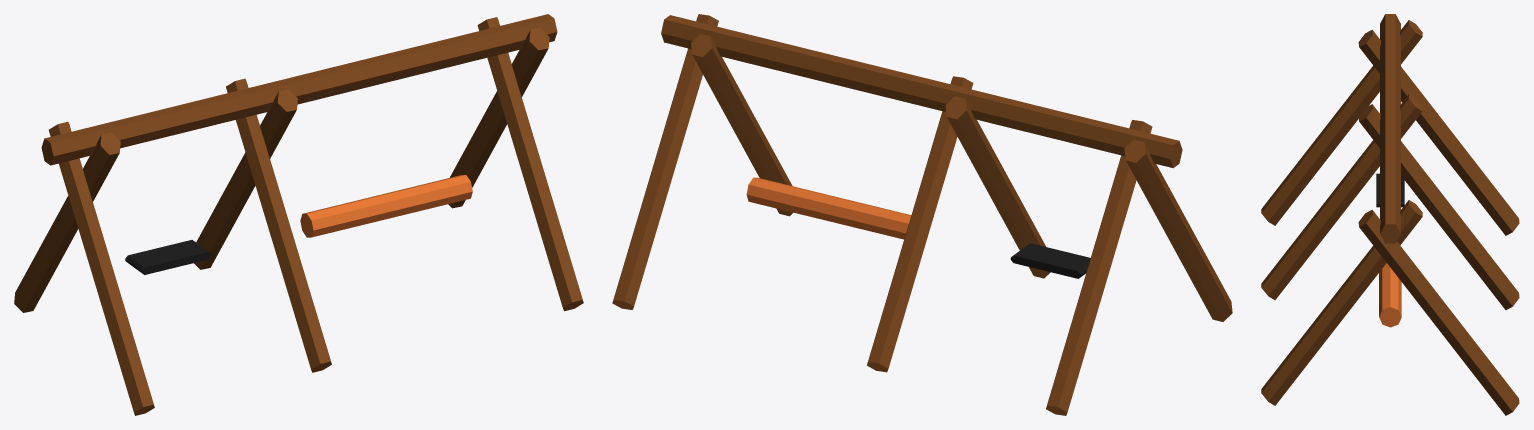
File: VisioSwing.fbx
3 views of the same model, side by side, from view 1: azimuth 30°, elevation 25°; view 2: azimuth 150°, elevation 25°; view 3: azimuth 270°, elevation 25° (orthographic). The views are drawn at different scales.
Parts seen in each view (by area): view 1: Cylinder, Cylinder.001, SwingSeat; view 2: Cylinder, Cylinder.001, SwingSeat; view 3: Cylinder, Cylinder.001, SwingSeat.
Part boxes in pixels (box(x1,y1,x2,y2)): Cylinder: box(14, 14, 583, 415); Cylinder.001: box(300, 175, 472, 237); SwingSeat: box(125, 240, 211, 274); Cylinder: box(612, 14, 1232, 415); Cylinder.001: box(746, 177, 911, 239); SwingSeat: box(1010, 243, 1090, 278); Cylinder: box(1261, 14, 1519, 415); Cylinder.001: box(1379, 263, 1401, 327); SwingSeat: box(1376, 173, 1404, 207).
Bounding box in the file's own units: 17.68 × 7.91 × 9.12.
